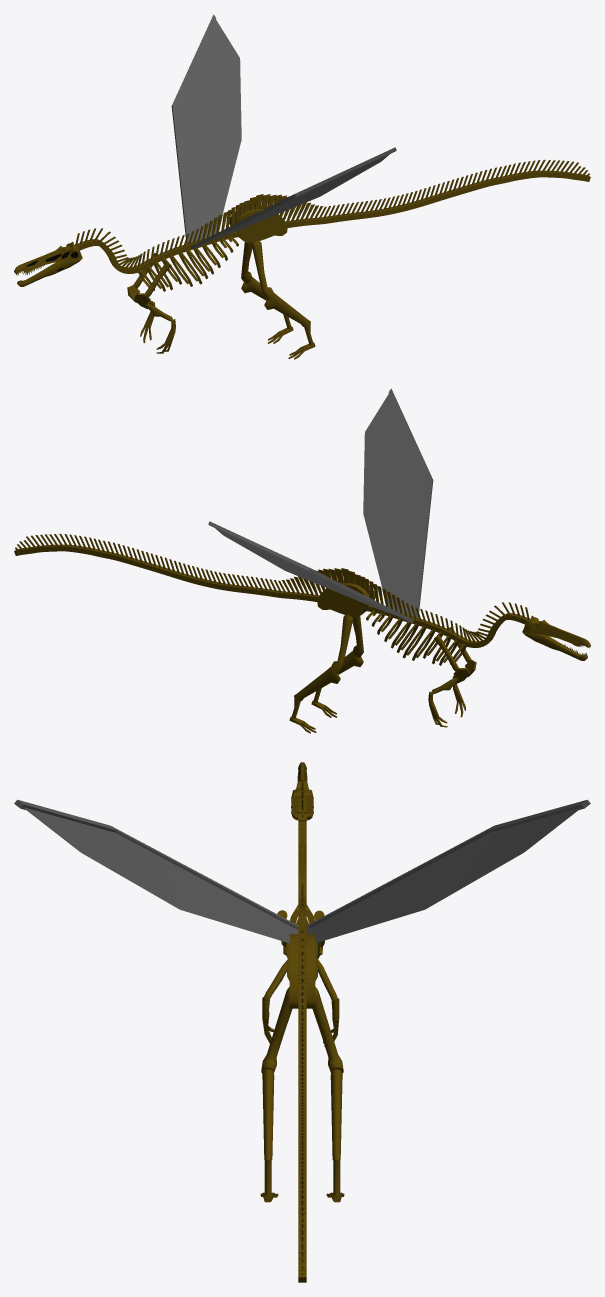
The model's file is fossil.fbx.
3 views of the same model, one above another, from view 1: azimuth 30°, elevation 25°; view 2: azimuth 150°, elevation 25°; view 3: azimuth 270°, elevation 25° (orthographic). The views are drawn at different scales.
Visible parts, largest first — view 1: transform1_99; view 2: transform1_99; view 3: transform1_99.
Boxes of the visible parts, <box> form: transform1_99: <box>14,14,590,359</box>; transform1_99: <box>14,388,590,733</box>; transform1_99: <box>14,762,590,1282</box>.
Size of the model in its own units: 302 by 133 by 167.
